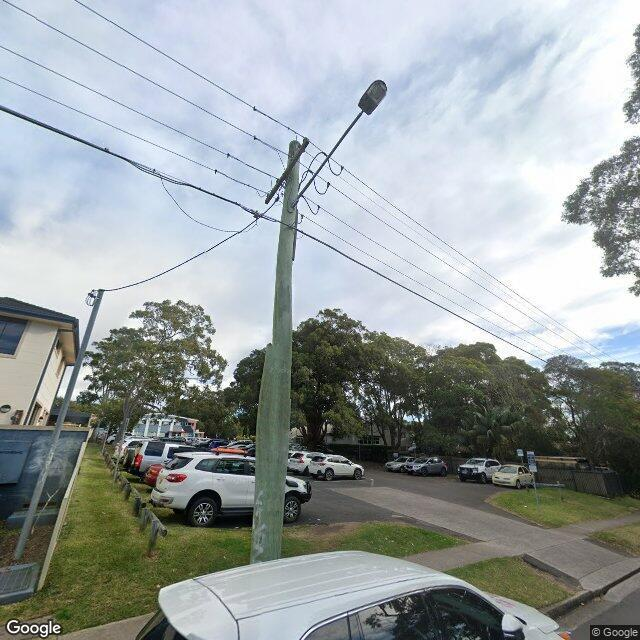crossarm: (264, 136, 310, 204)
steel-pole: (12, 288, 106, 562)
streetlight: (288, 79, 389, 211)
timber-pole: (251, 141, 300, 565)
